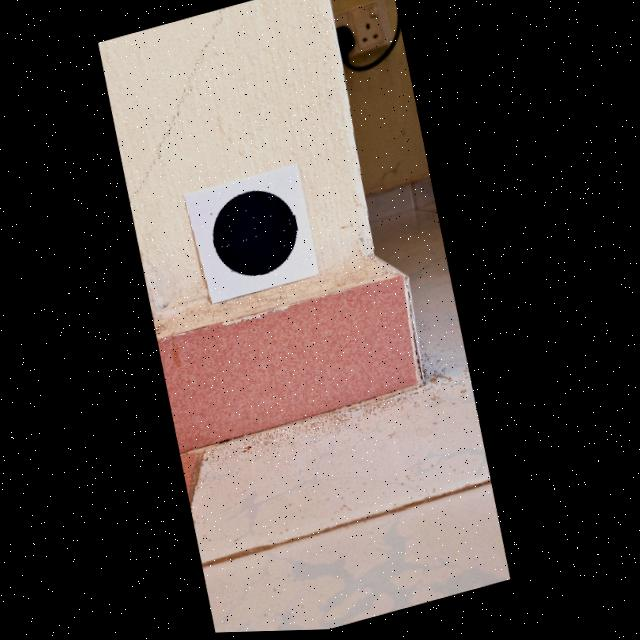CIRCLE: (215, 192, 299, 277)
